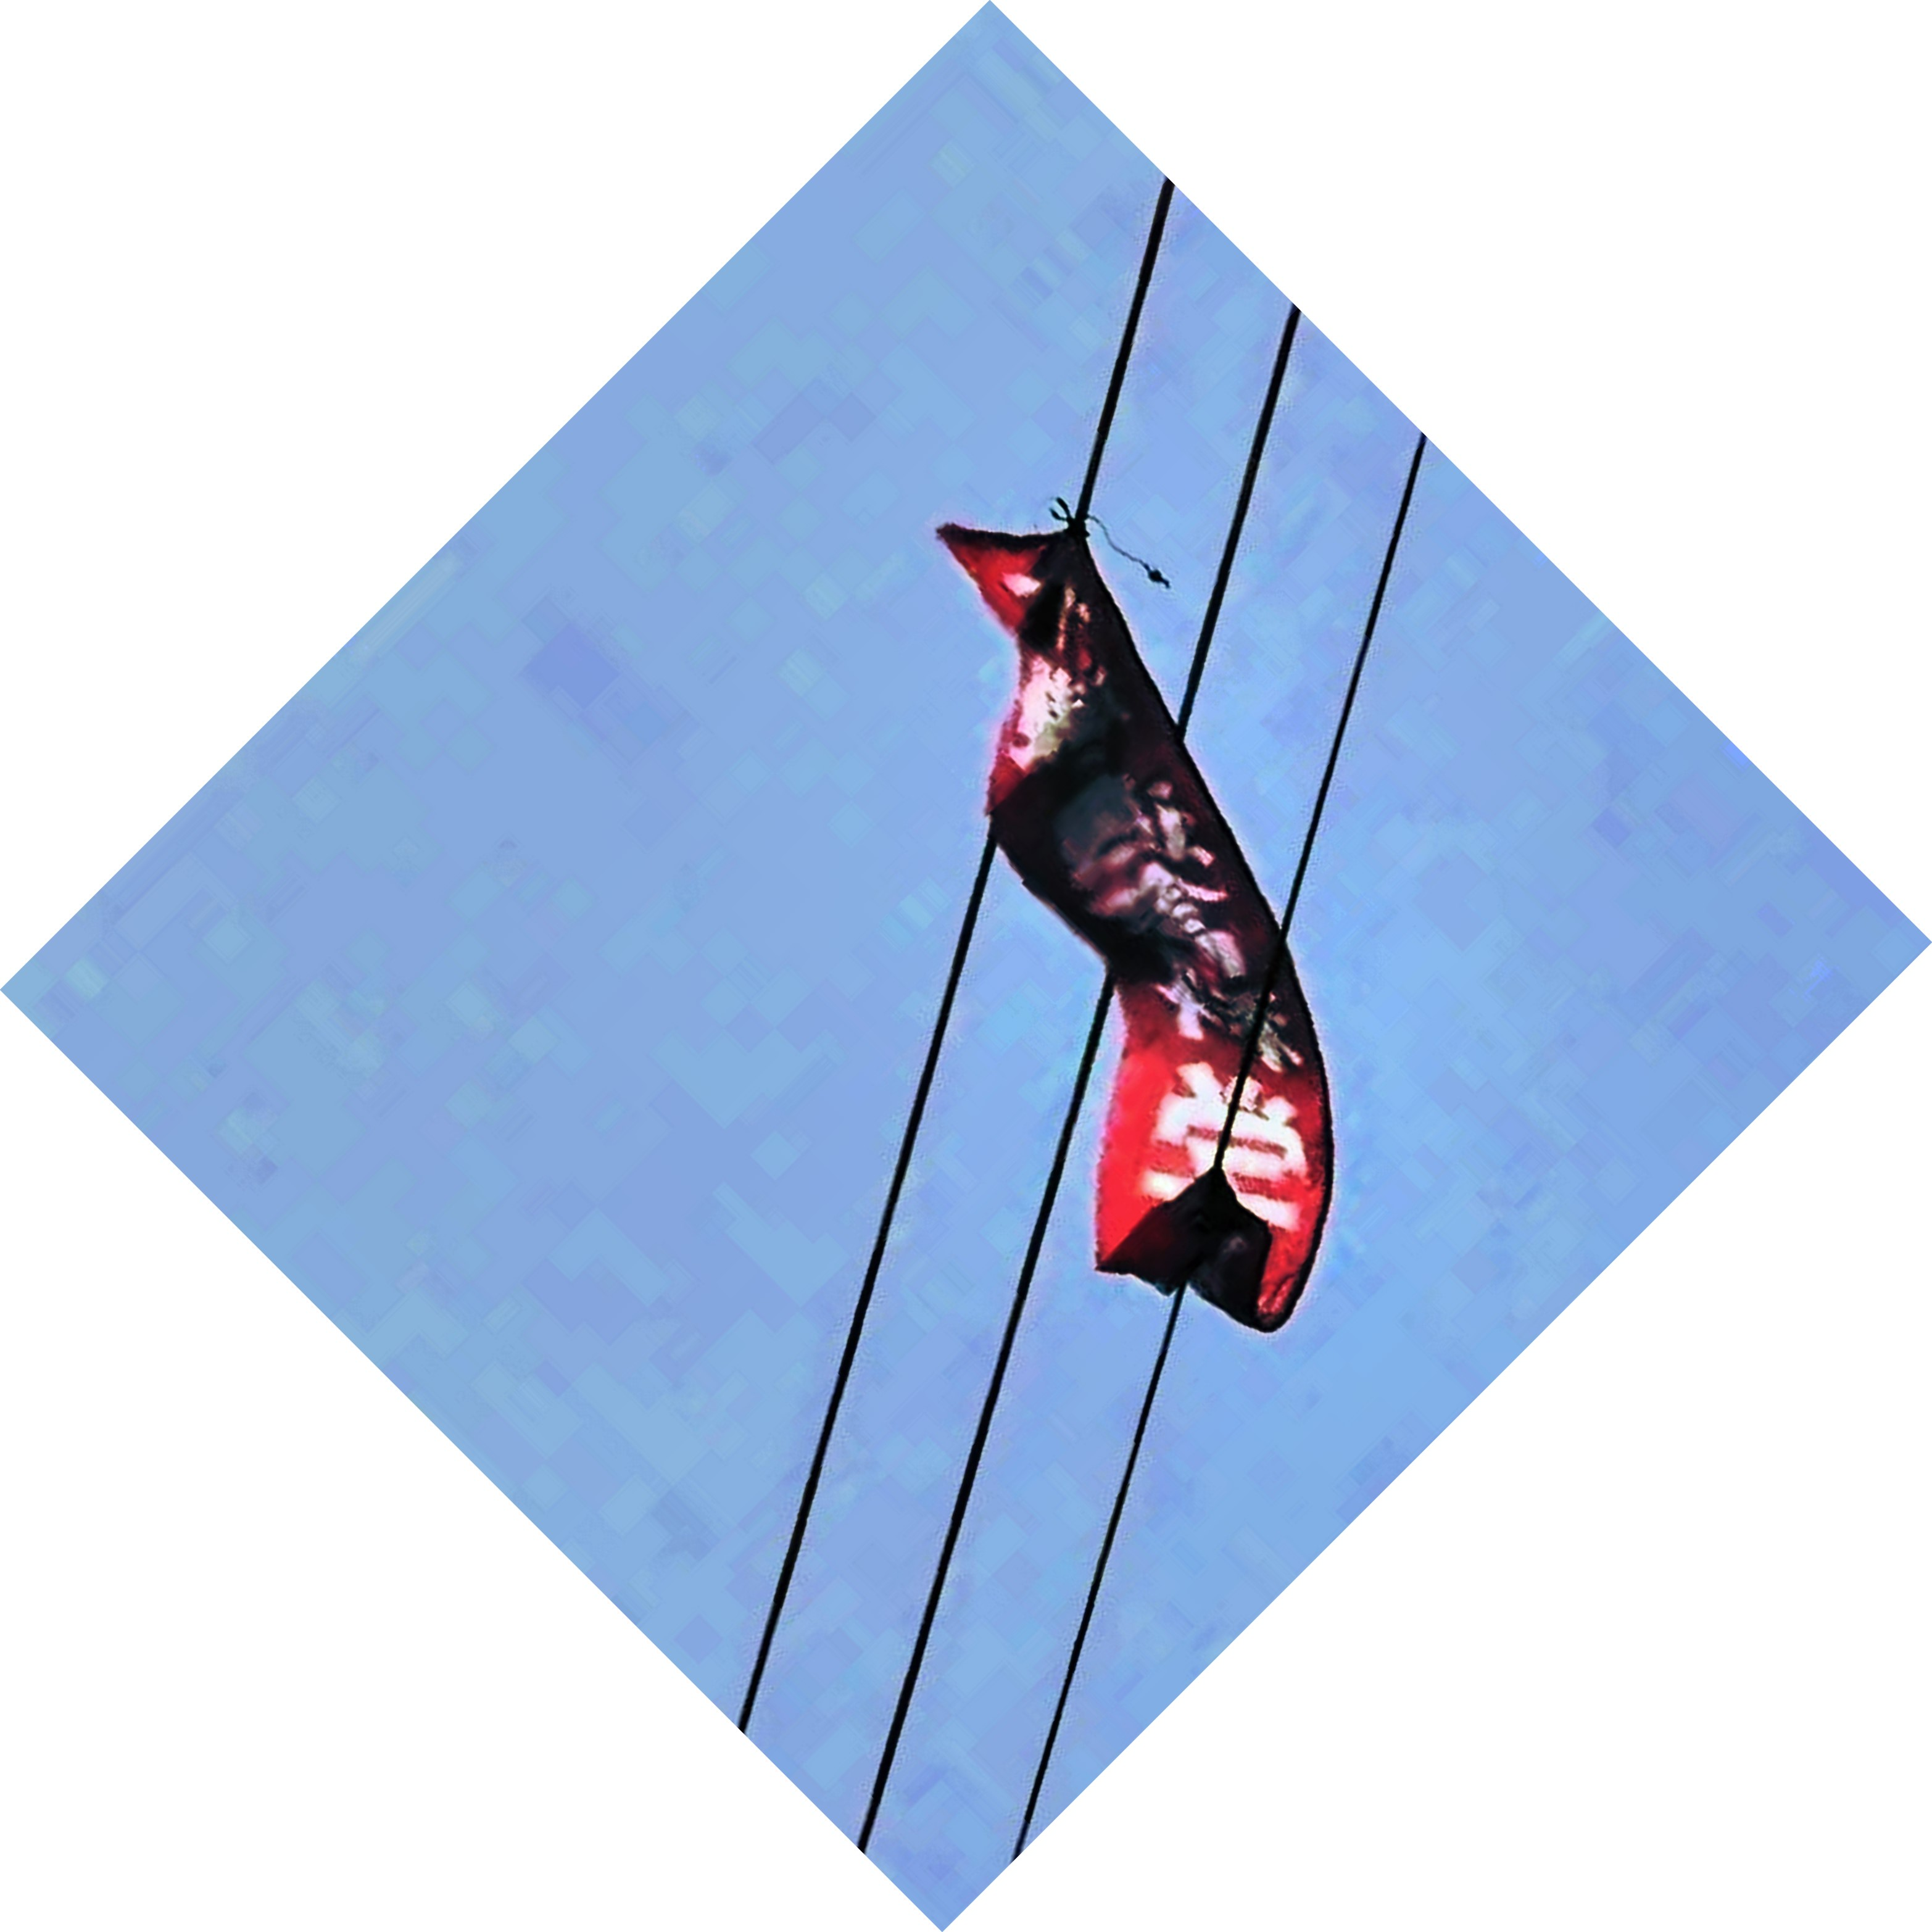wire foreign body: (911, 497, 1394, 1353)
